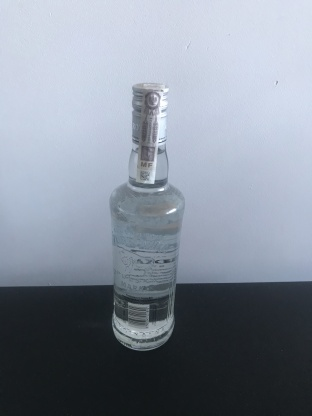nakretka: (128, 77, 171, 148)
